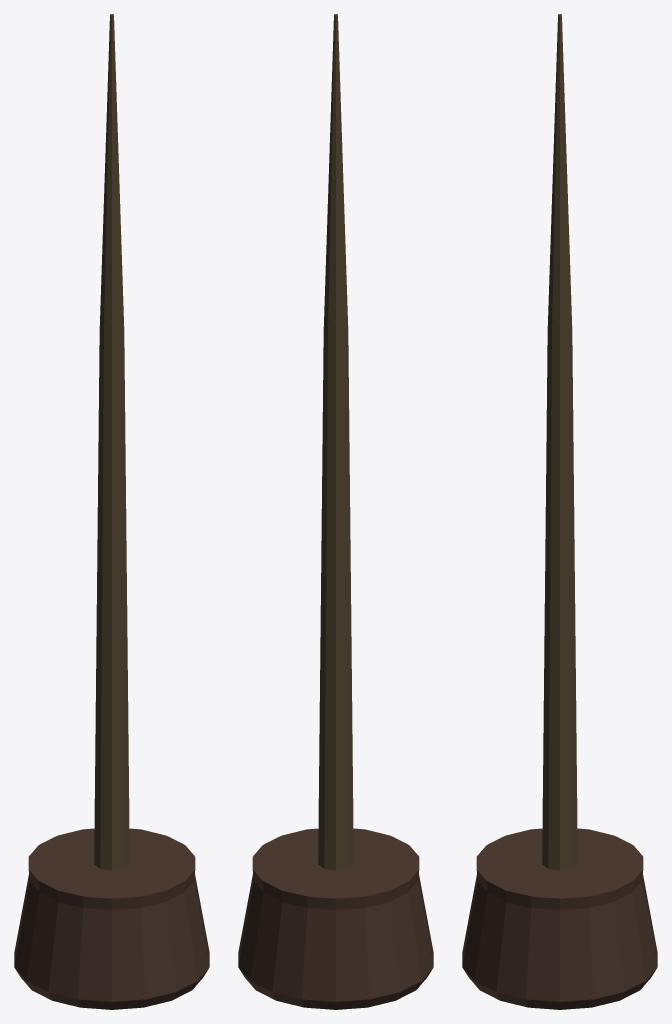
Rendered from pineMid.glb.
3 views of the same model, side by side, from view 1: azimuth 30°, elevation 25°; view 2: azimuth 150°, elevation 25°; view 3: azimuth 270°, elevation 25° (orthographic).
Visible parts, largest first — view 1: pineMid; view 2: pineMid; view 3: pineMid.
Part boxes in pixels (<box>): pineMid: <box>14,14,209,1009</box>; pineMid: <box>238,14,433,1009</box>; pineMid: <box>462,14,657,1009</box>.
Bounding box in the file's own units: 0.3 × 1.6 × 0.2954.
